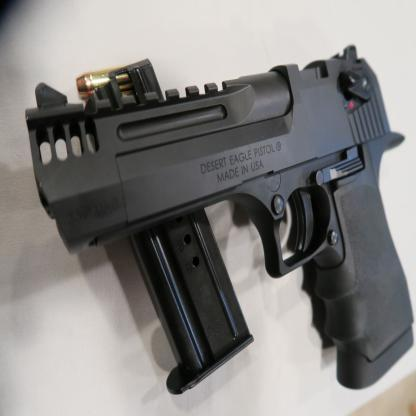Pistol: (22, 23, 414, 414)
